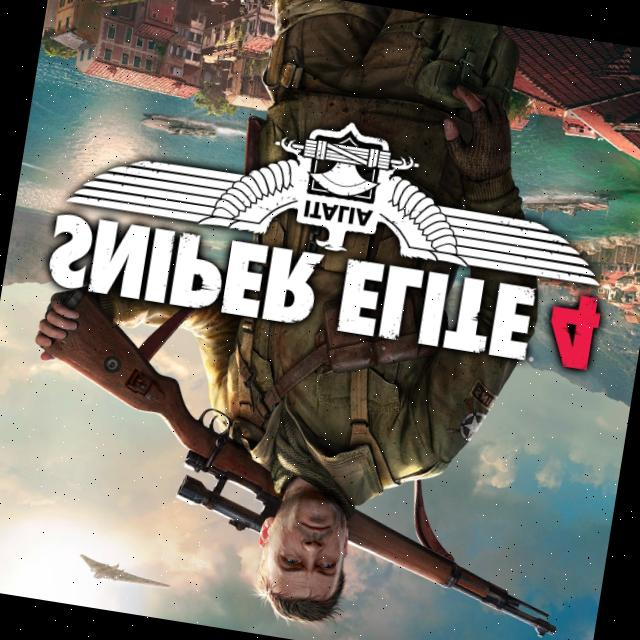Sniper: (20, 263, 624, 640)
